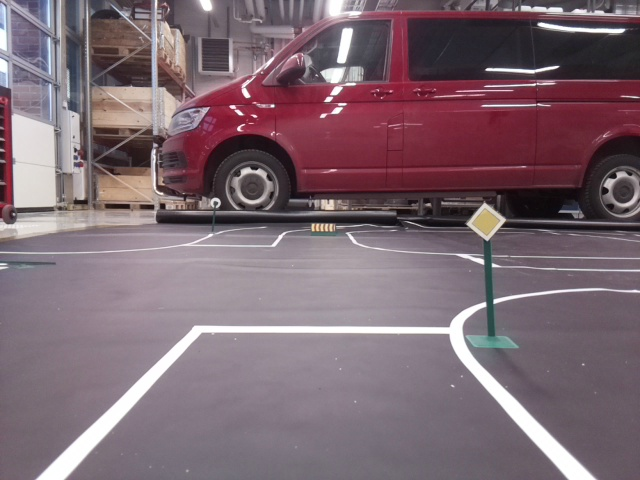Priority: (466, 202, 504, 236)
